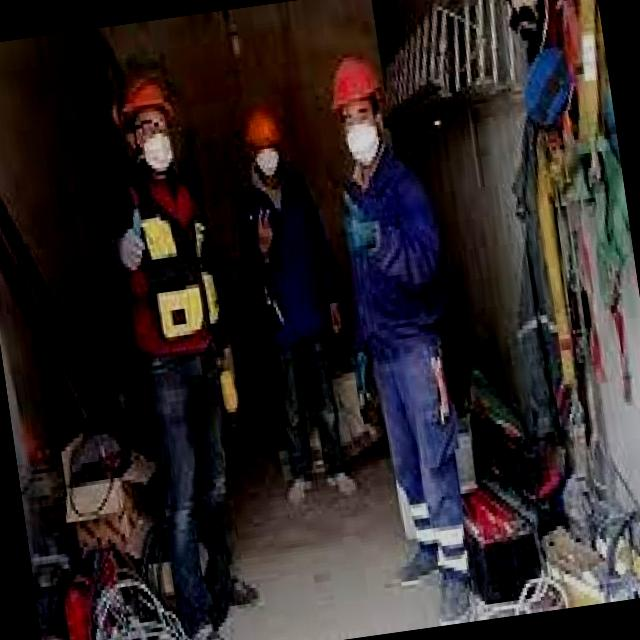boots: (430, 568, 478, 626), (391, 546, 442, 590), (219, 572, 263, 616), (317, 464, 362, 502), (280, 470, 316, 508), (199, 625, 240, 640)
helmet: (108, 73, 178, 133), (322, 48, 383, 107), (244, 111, 286, 153)
vest: (100, 164, 237, 376)
